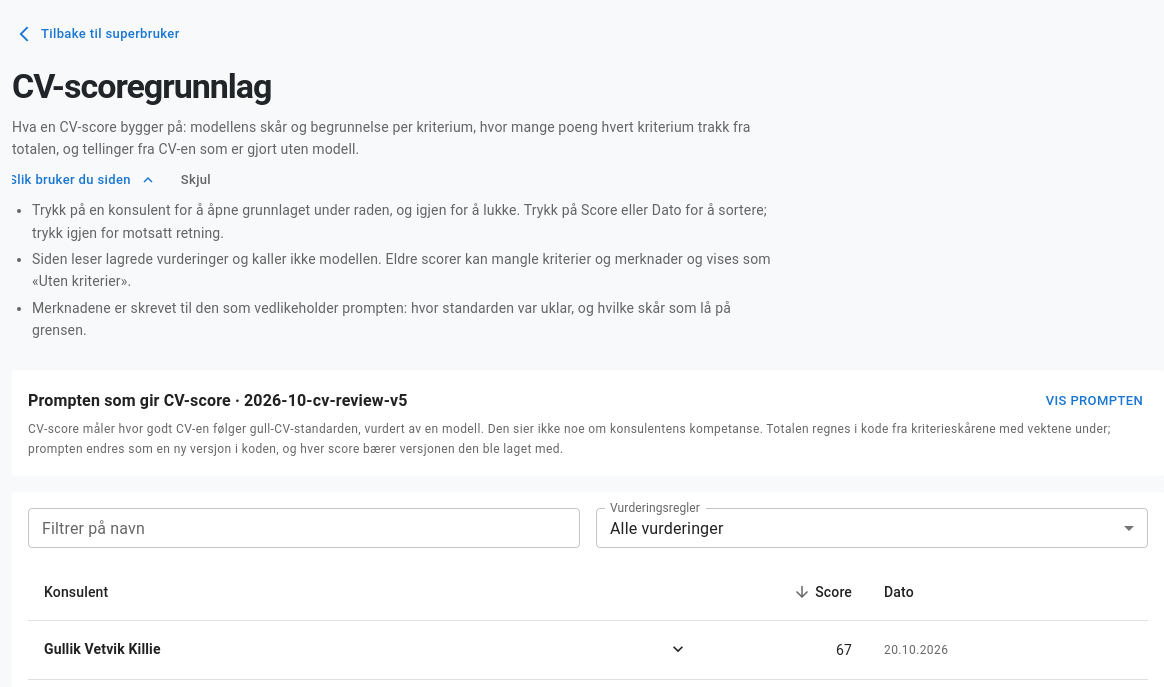
it: CvScoreBasisPage › keeps an open basis with its row when sorting, and lets the same control close it
Click the button "Gullik Vetvik Killie".
click(102, 649)  # box [44,627,684,671]
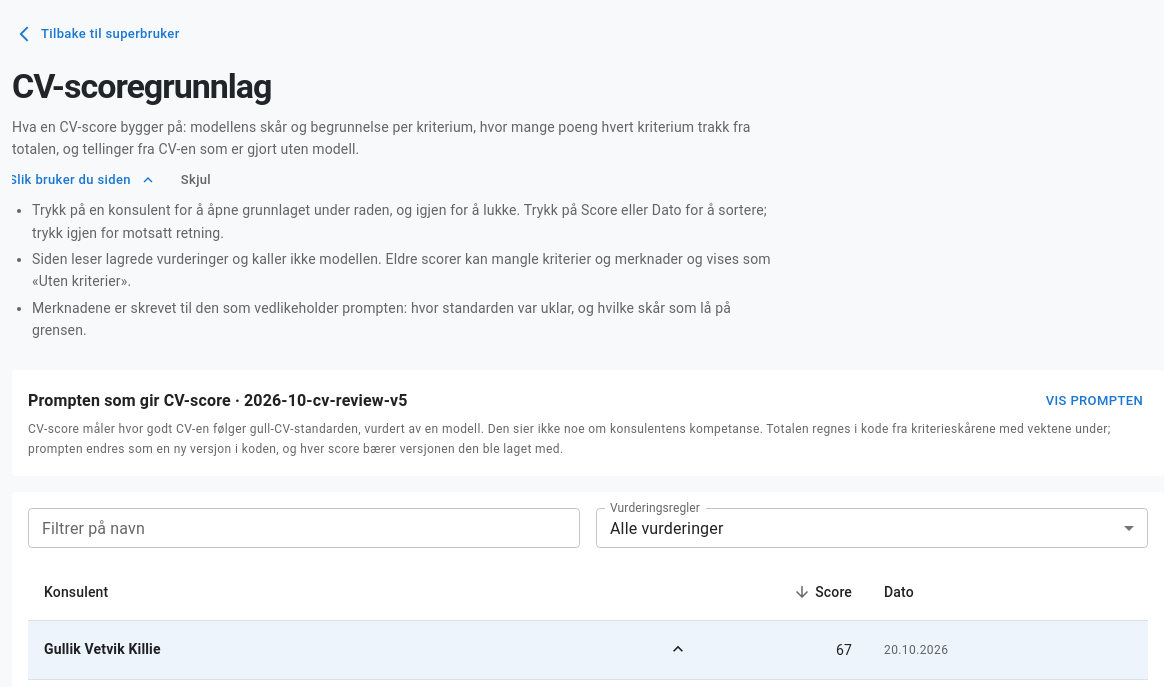
Expected: the button "Gullik Vetvik Killie" is expanded, [44,627,684,671]
Click the button with aria-label "Sorter etter score".
click(823, 592)  # box [793,583,852,601]
(page scrolled)
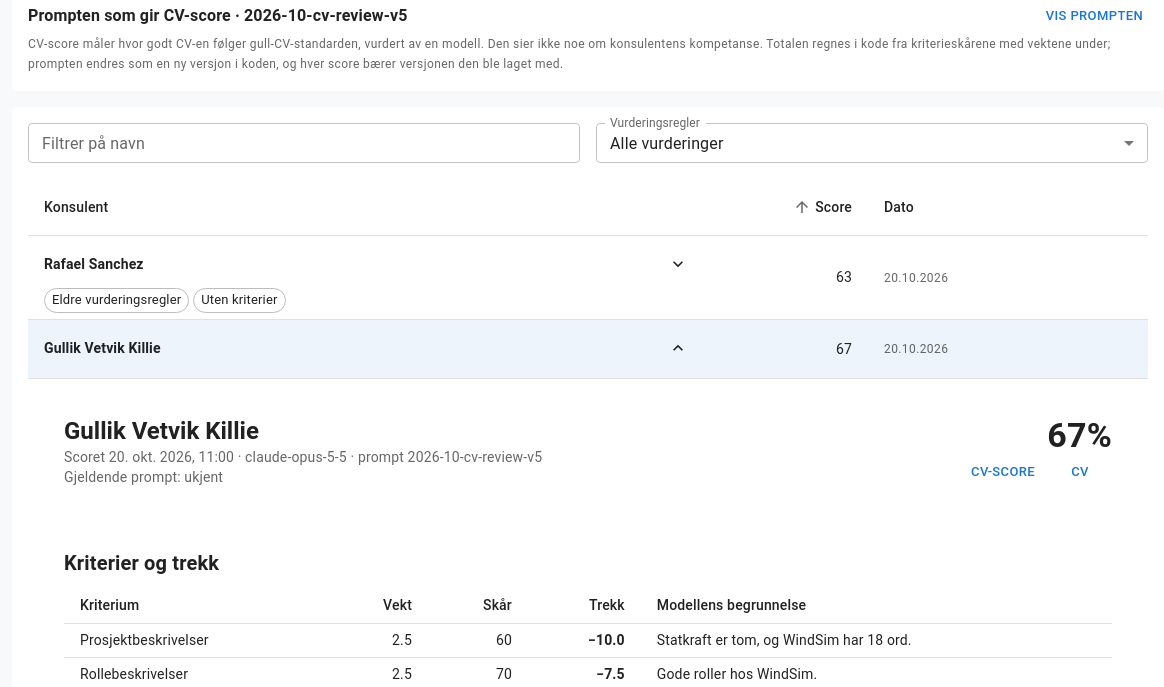
Click the button "Gullik Vetvik Killie".
click(102, 348)  # box [44,326,684,370]
(page scrolled)
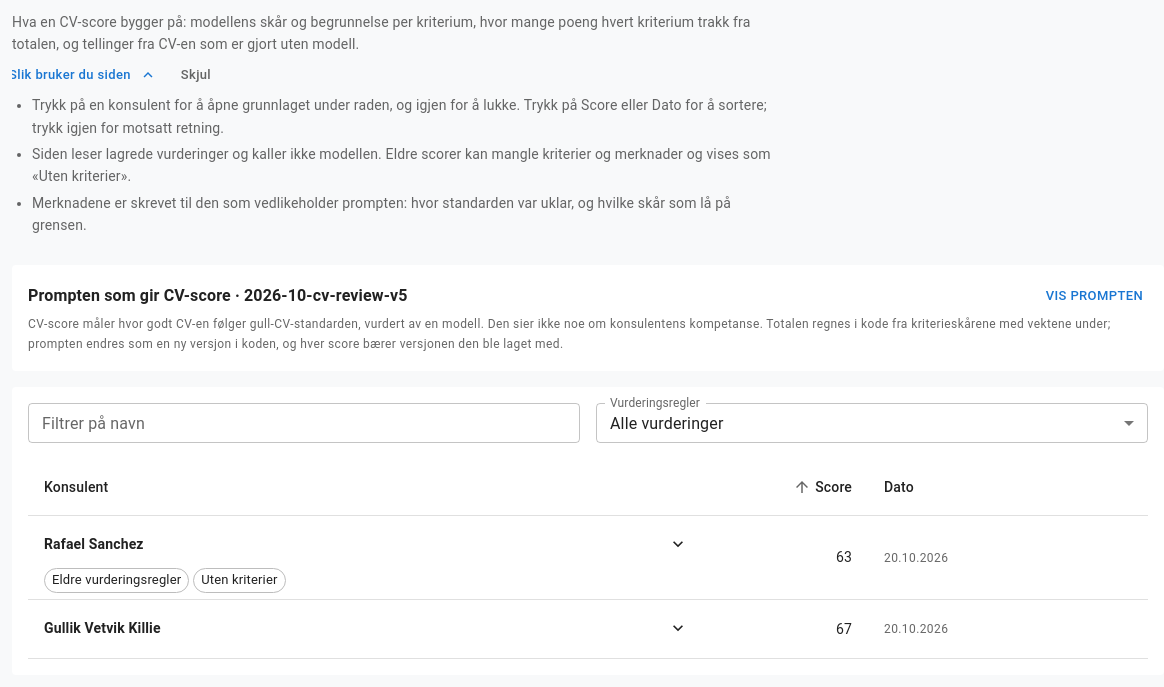
Expected: the button "Gullik Vetvik Killie" is collapsed, [44,606,684,650]
